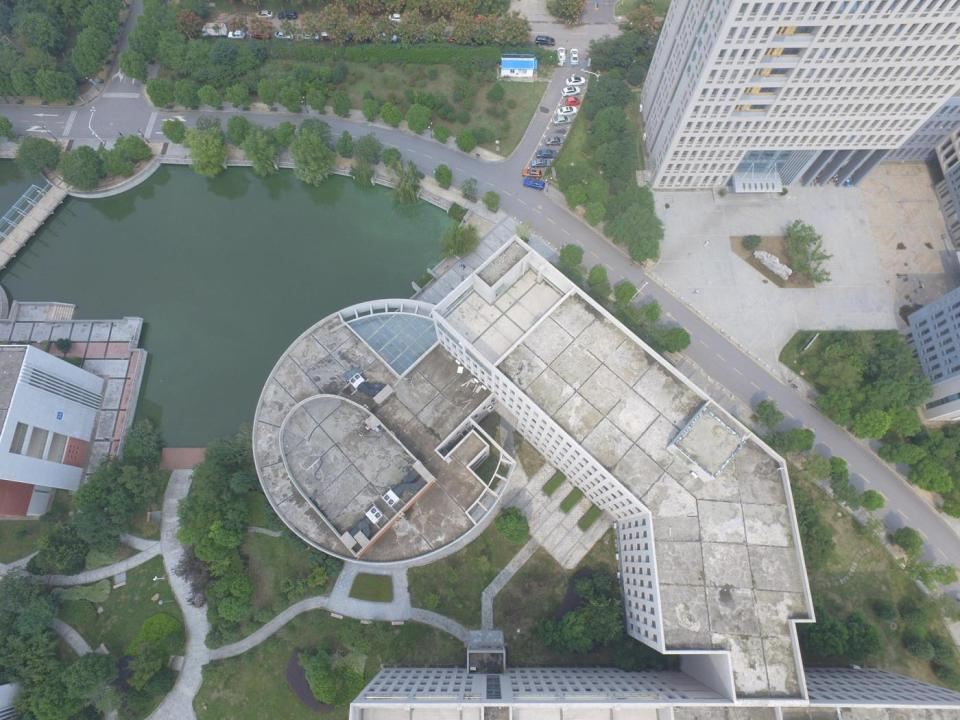car: (523, 178, 545, 190), (449, 33, 471, 44), (522, 168, 542, 180), (561, 86, 581, 98), (535, 35, 555, 47), (552, 115, 573, 126), (545, 136, 565, 147), (566, 76, 586, 87), (468, 14, 488, 25), (424, 34, 446, 44), (401, 33, 420, 44), (378, 32, 397, 43), (557, 106, 577, 116), (357, 31, 375, 42), (255, 10, 274, 20), (536, 150, 557, 159), (274, 31, 295, 40), (530, 159, 550, 168), (388, 13, 406, 23), (251, 31, 271, 40), (630, 20, 650, 29), (278, 11, 297, 20), (653, 21, 672, 30), (321, 31, 338, 41), (338, 32, 355, 42), (302, 32, 320, 41), (228, 30, 244, 40), (570, 48, 579, 65), (557, 47, 566, 63), (565, 97, 580, 106)
truck: (202, 22, 228, 39)
